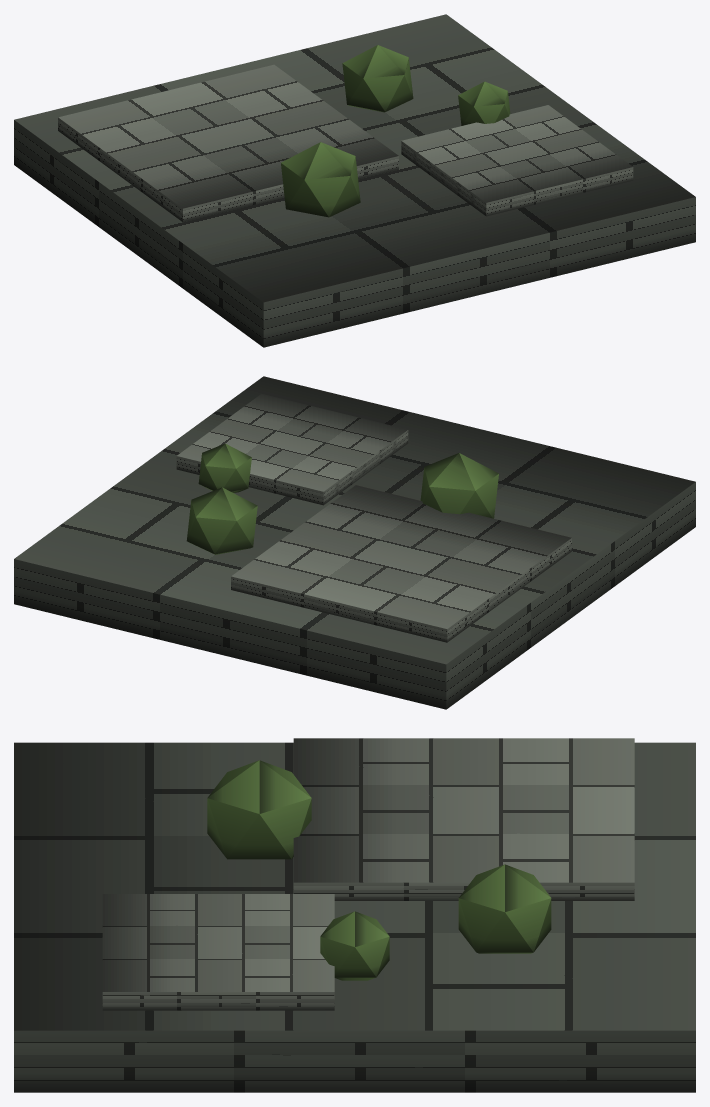
The model's file is ground_moss.gltf.
3 views of the same model, one above another, from view 1: azimuth 30°, elevation 25°; view 2: azimuth 150°, elevation 25°; view 3: azimuth 270°, elevation 25° (orthographic). The views are drawn at different scales.
Parts seen in each view (by area): view 1: ground_moss; view 2: ground_moss; view 3: ground_moss.
Part boxes in pixels (x1,y1,x2,y2): ground_moss: (14, 14, 695, 347); ground_moss: (14, 376, 695, 709); ground_moss: (14, 738, 695, 1092).
Bounding box in the file's own units: 1 × 0.23 × 1.
1 material, 1 textured.
